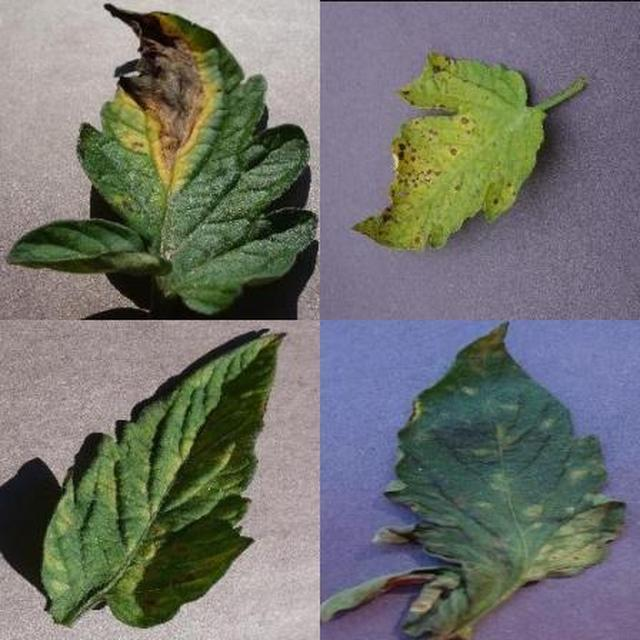Early Blight Leaf: (235, 210, 640, 640)
